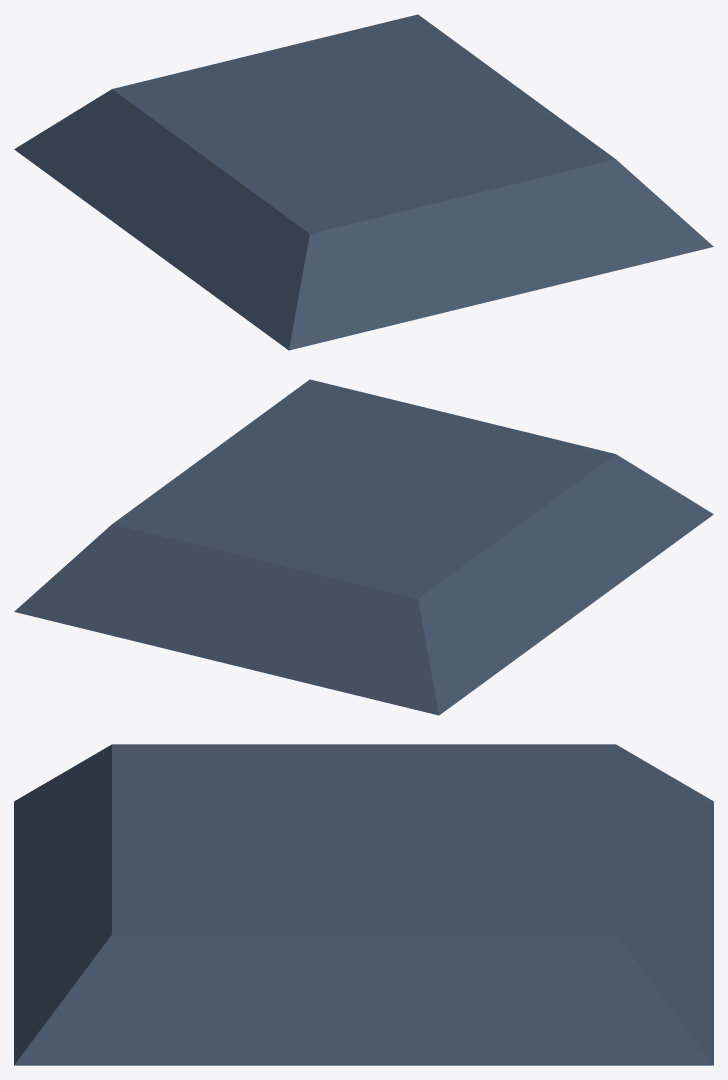
File: map.fbx
The picture shows the model from 3 angles, top to bottom: view 1: azimuth 30°, elevation 25°; view 2: azimuth 150°, elevation 25°; view 3: azimuth 270°, elevation 25°; orthographic projection. The views are drawn at different scales.
Visible parts, largest first — view 1: Object_107.001; view 2: Object_107.001; view 3: Object_107.001.
Part boxes in pixels (x1,y1,x2,y2): Object_107.001: [14, 14, 713, 350]; Object_107.001: [14, 379, 713, 715]; Object_107.001: [14, 744, 713, 1065].
Bounding box in the file's own units: 5.46 × 0.907 × 6.11.
